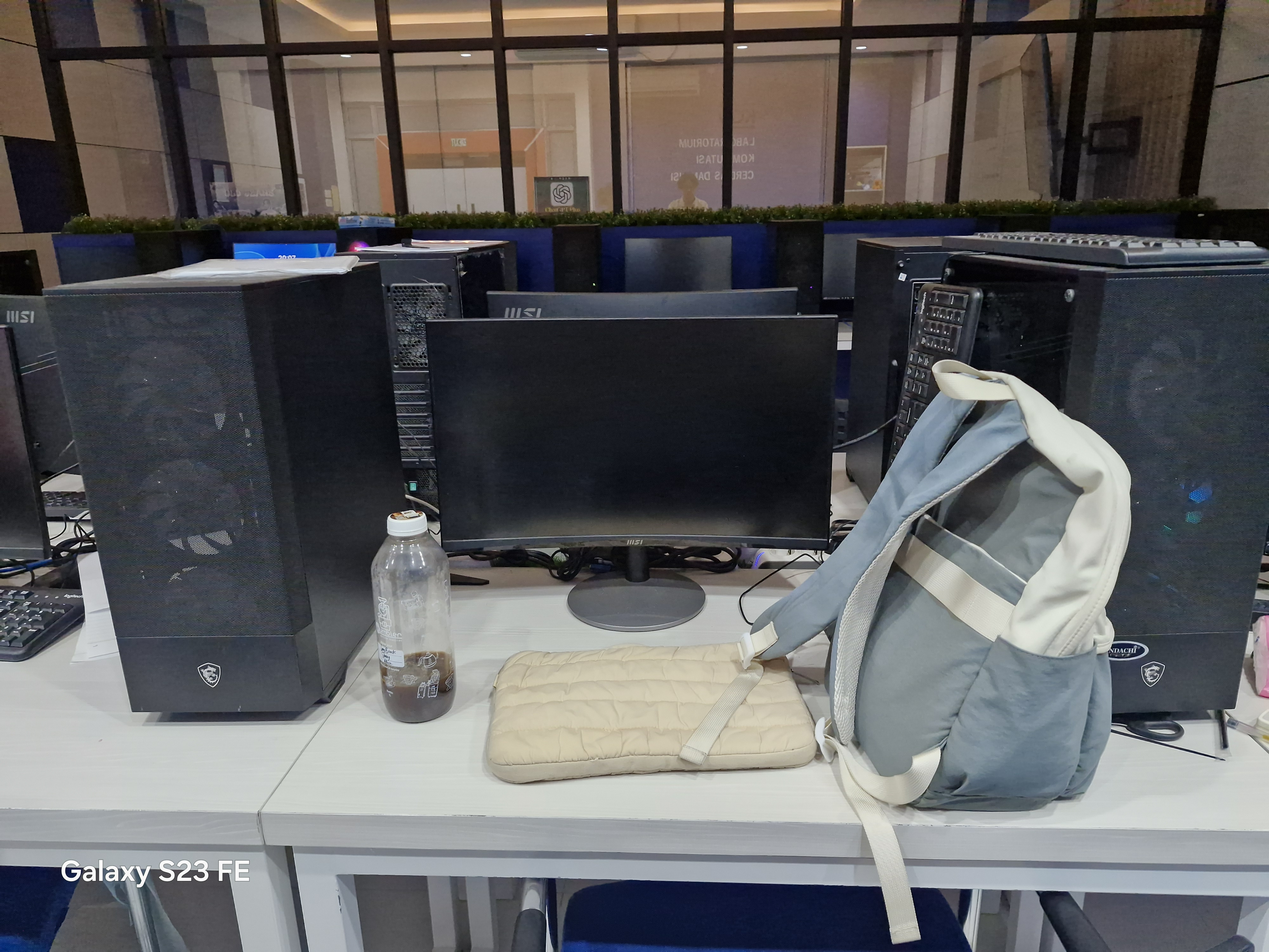backpack: (741, 360, 1130, 942)
bottle: (371, 510, 454, 723)
keyboard: (894, 283, 983, 437), (942, 232, 1268, 266), (0, 586, 84, 661)
table-merged: (0, 571, 866, 838), (881, 733, 1268, 838)
tv: (425, 292, 835, 632)
window-other: (51, 0, 1218, 205)
